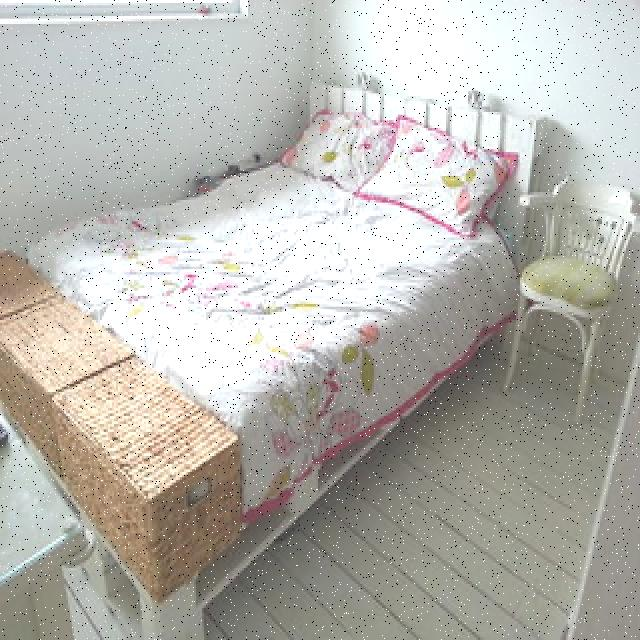bed: (37, 79, 543, 399)
